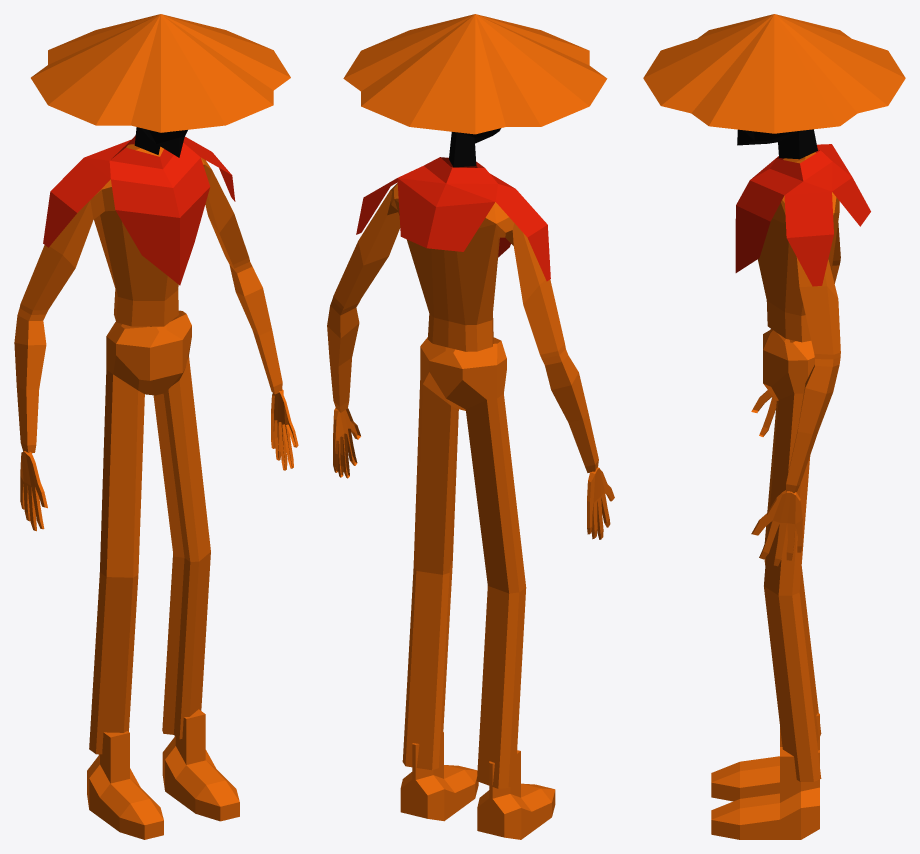
Rendered from character.fbx.
3 views of the same model, side by side, from view 1: azimuth 30°, elevation 25°; view 2: azimuth 150°, elevation 25°; view 3: azimuth 270°, elevation 25° (orthographic).
Visible parts, largest first — view 1: Cube.002; view 2: Cube.002; view 3: Cube.002.
Part boxes in pixels (x1,y1,x2,y2): Cube.002: (14, 14, 298, 839); Cube.002: (327, 14, 614, 839); Cube.002: (643, 14, 905, 839).
Size of the model in its own units: 229 by 670 by 200.
